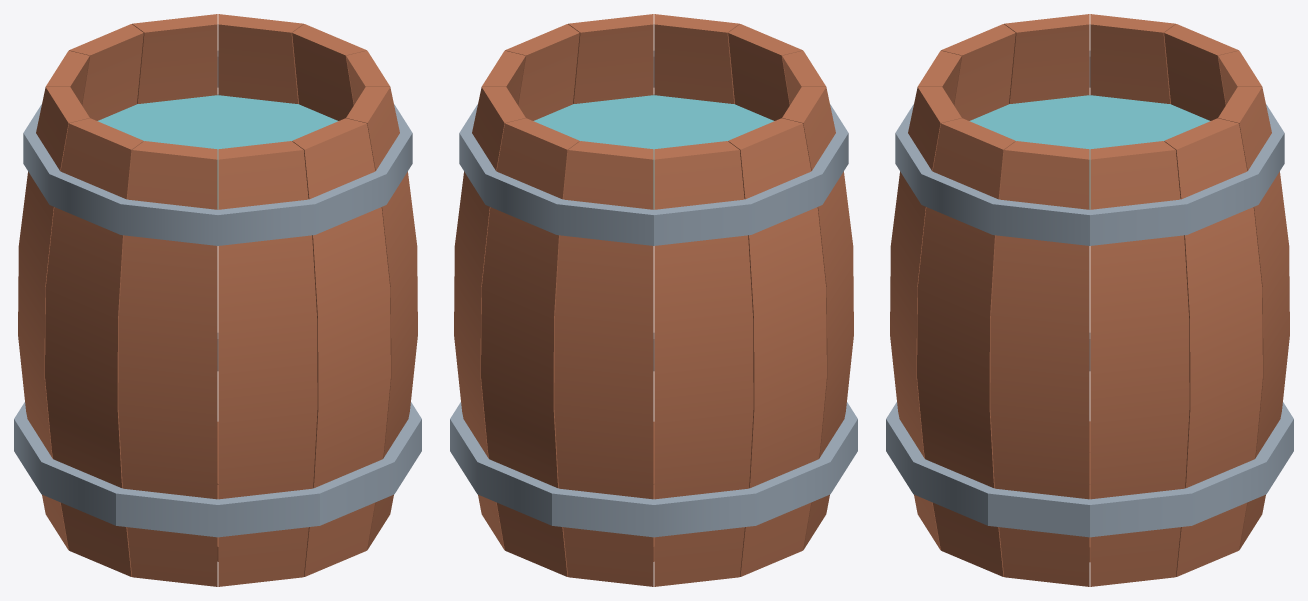
The model's file is Barrel.fbx.
3 views of the same model, side by side, from view 1: azimuth 30°, elevation 25°; view 2: azimuth 150°, elevation 25°; view 3: azimuth 270°, elevation 25° (orthographic).
Parts seen in each view (by area): view 1: Circle.012; view 2: Circle.012; view 3: Circle.012.
Boxes of the visible parts, bbox=[...] form: Circle.012: bbox=[14, 14, 421, 586]; Circle.012: bbox=[450, 14, 857, 586]; Circle.012: bbox=[886, 14, 1293, 586].
Size of the model in its own units: 38.64 by 44.66 by 38.64.
1 material, 1 textured.
